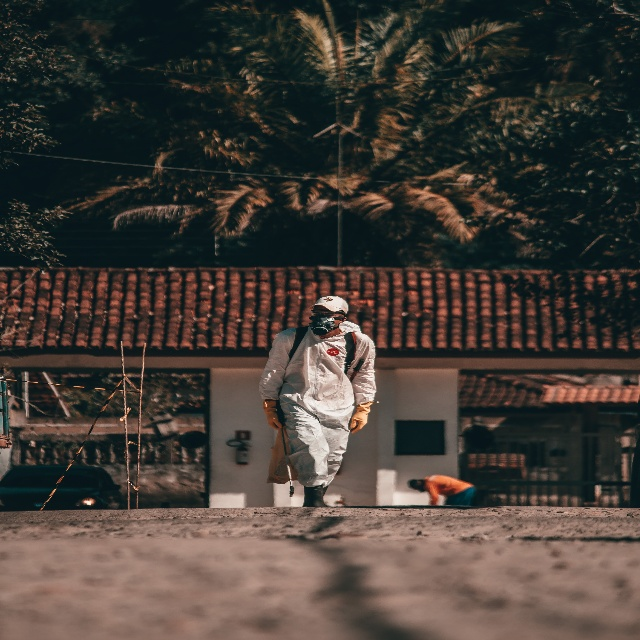Gafas: (311, 308, 337, 318)
Guantes: (350, 404, 371, 434), (263, 399, 282, 430)
